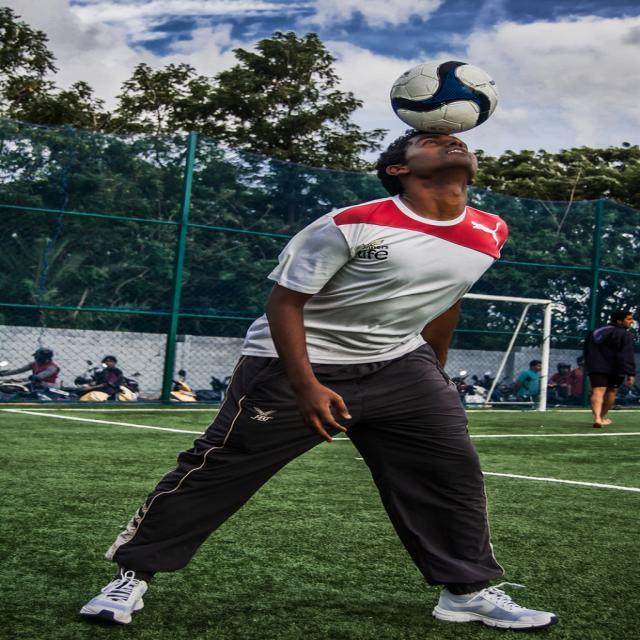football: (388, 52, 505, 134)
